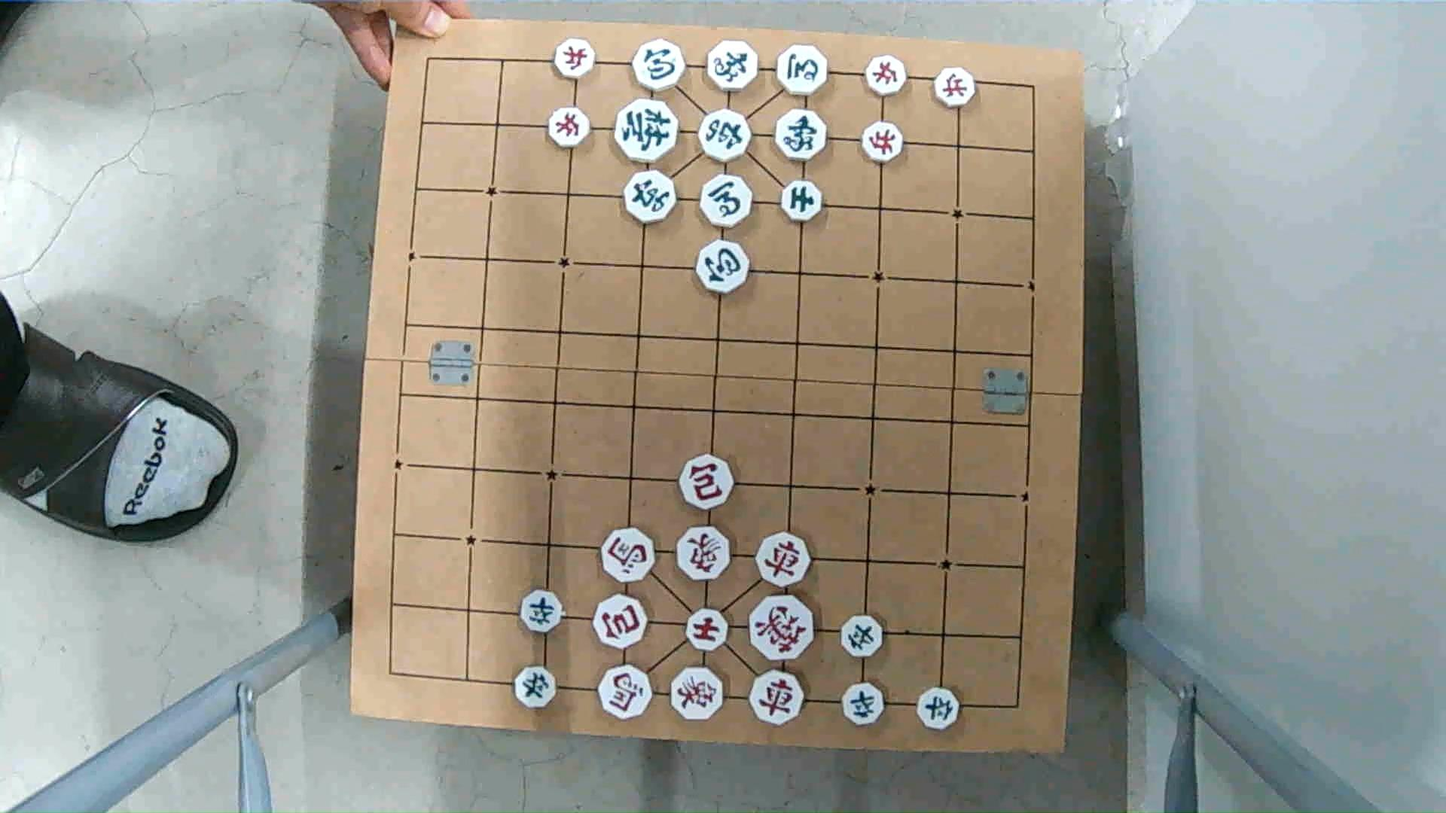cha_green: (694, 112, 752, 161), (622, 172, 676, 222)
cha_red: (750, 668, 809, 725), (755, 537, 812, 587)
jol_green: (511, 663, 560, 710), (838, 617, 886, 658), (844, 684, 888, 725), (521, 589, 565, 629), (918, 689, 964, 727)
jol_red: (859, 55, 911, 96), (858, 122, 908, 163), (548, 105, 593, 148), (934, 67, 978, 108), (554, 38, 597, 78)
ma_green: (700, 172, 753, 227), (776, 47, 829, 96)
ma_red: (605, 528, 664, 580), (596, 667, 652, 718)
po_green: (695, 239, 751, 294), (629, 40, 688, 91)
po_red: (594, 596, 649, 647), (678, 455, 734, 504)
sa_green: (780, 181, 826, 223)
sa_red: (685, 610, 731, 650)
sang_green: (776, 113, 831, 160), (707, 44, 760, 91)
sang_red: (676, 526, 731, 582), (670, 666, 725, 717)
wang_green: (612, 102, 681, 162)
wang_red: (752, 598, 818, 659)
